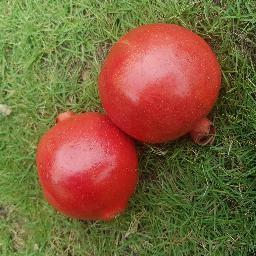pomegranate: (99, 23, 223, 146), (34, 111, 139, 221)
